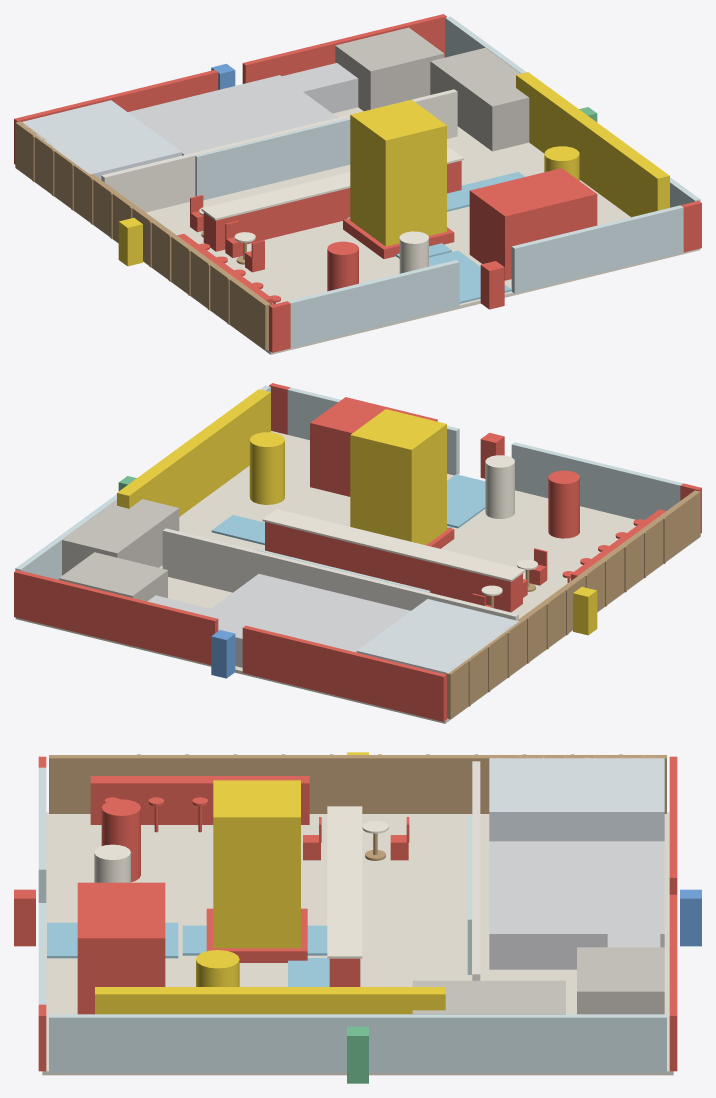
The picture shows the model from 3 angles, top to bottom: view 1: azimuth 30°, elevation 25°; view 2: azimuth 150°, elevation 25°; view 3: azimuth 270°, elevation 25°; orthographic projection. The views are drawn at different scales.
Parts seen in each view (by area): view 1: window (×3), wall (×3), floor, bigplush, shelf, kitchen, showcase, factoryGlass, core, freezer, wc, bohwall (+13 smaller); view 2: wall (×3), floor, bigplush, window (×3), kitchen, bohwall, shelf, counter, freezer, core, showcase, ledge (+10 smaller); view 3: floor, window (×3), wall (×3), kitchen, bigplush, freezer, showcase, shelf, wc, bar, ledge, core (+13 smaller).
Part boxes in pixels (x1=…): window (×3): x1=288, y1=16, x2=700, y2=348; wall (×3): x1=14, y1=14, x2=446, y2=350; floor: x1=16, y1=107, x2=700, y2=354; bigplush: x1=350, y1=99, x2=446, y2=246; shelf: x1=516, y1=72, x2=669, y2=217; kitchen: x1=128, y1=75, x2=337, y2=155; showcase: x1=469, y1=168, x2=597, y2=280; factoryGlass: x1=195, y1=118, x2=350, y2=200; core: x1=430, y1=47, x2=529, y2=151; freezer: x1=22, y1=100, x2=181, y2=179; wc: x1=335, y1=27, x2=444, y2=110; bohwall: x1=101, y1=89, x2=457, y2=212; wall (×3): x1=14, y1=490, x2=700, y2=721; floor: x1=15, y1=431, x2=699, y2=723; bigplush: x1=350, y1=409, x2=446, y2=545; window (×3): x1=15, y1=385, x2=682, y2=579; kitchen: x1=203, y1=574, x2=410, y2=667; bohwall: x1=162, y1=528, x2=518, y2=620; shelf: x1=117, y1=389, x2=270, y2=516; counter: x1=265, y1=522, x2=522, y2=612; freezer: x1=356, y1=599, x2=518, y2=673; core: x1=62, y1=499, x2=179, y2=575; showcase: x1=310, y1=397, x2=437, y2=496; ledge: x1=262, y1=509, x2=525, y2=581; floor: x1=42, y1=812, x2=673, y2=1075; window (×3): x1=38, y1=767, x2=666, y2=1072; wall (×3): x1=49, y1=755, x2=677, y2=1071; kitchen: x1=489, y1=841, x2=664, y2=969; bigplush: x1=213, y1=780, x2=300, y2=948; freezer: x1=489, y1=756, x2=664, y2=841; showcase: x1=77, y1=882, x2=165, y2=1014; shelf: x1=95, y1=987, x2=445, y2=1014; wc: x1=577, y1=947, x2=664, y2=1014; bar: x1=90, y1=776, x2=309, y2=824; ledge: x1=327, y1=806, x2=362, y2=958; core: x1=412, y1=980, x2=565, y2=1014.
Size of the model in its own units: 15.3 by 3.7 by 15.7.
